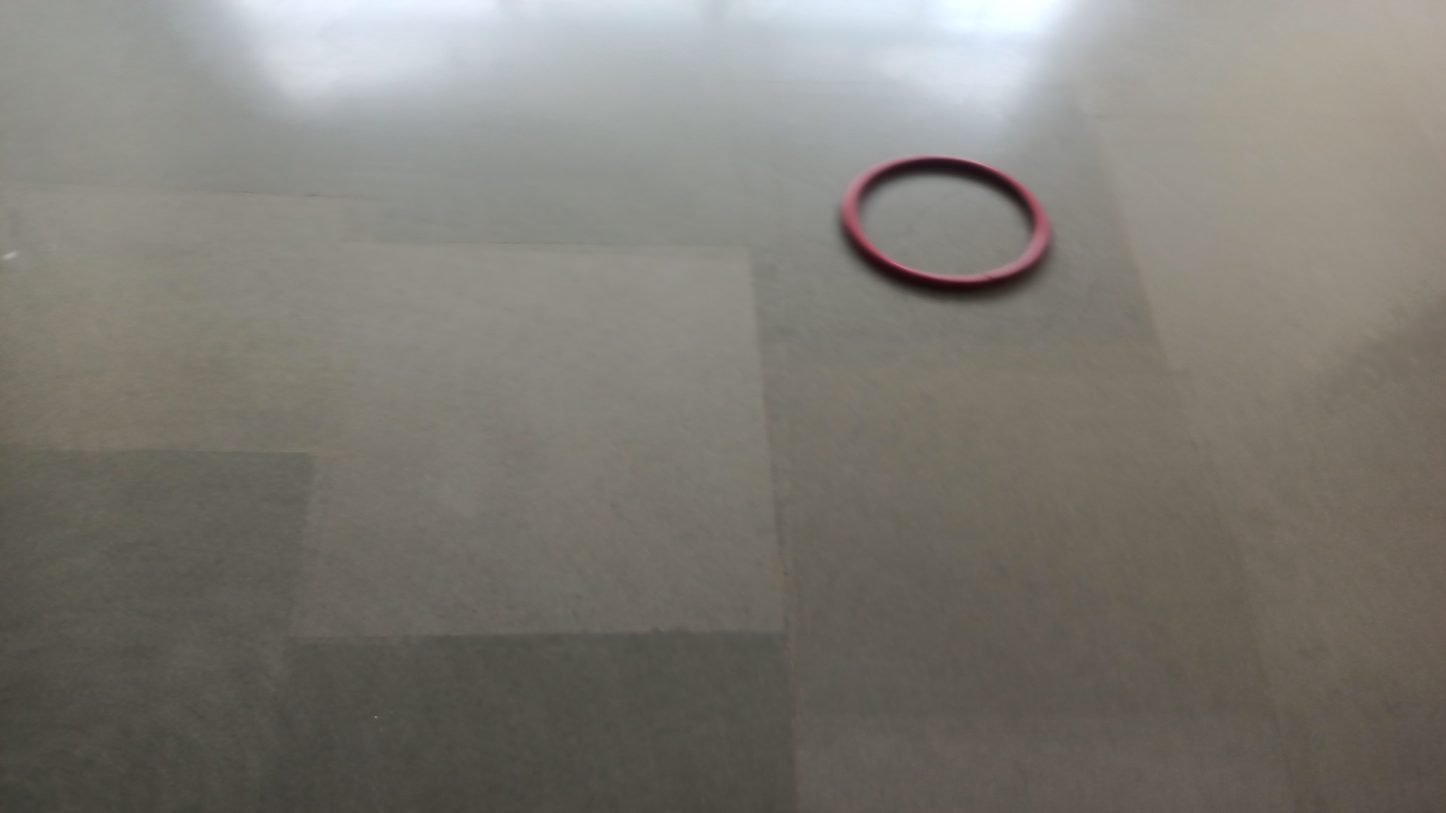Red ring: (839, 154, 1052, 290)
